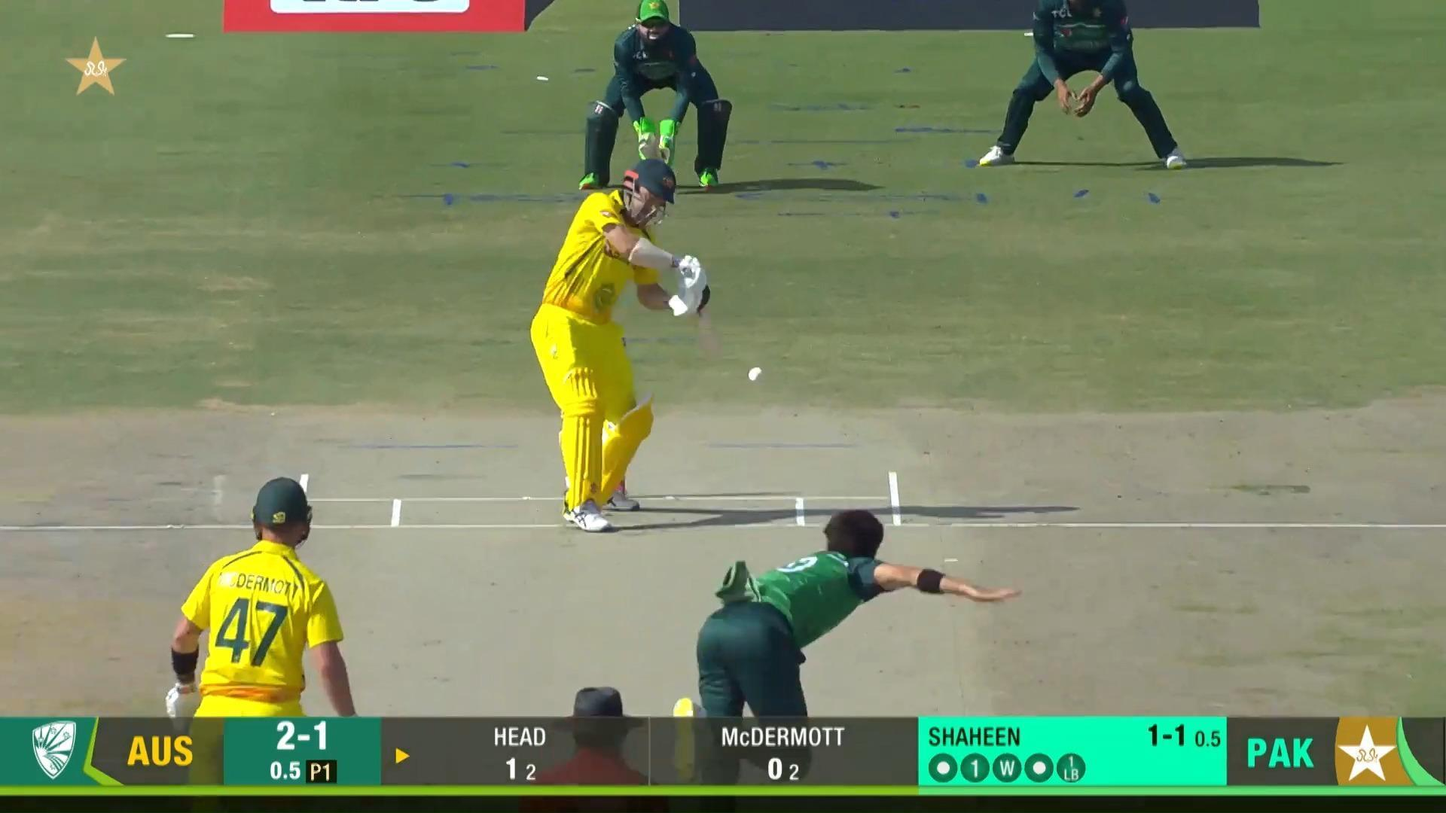BM 1: (531, 158, 724, 532)
BO: (670, 507, 1021, 787)
